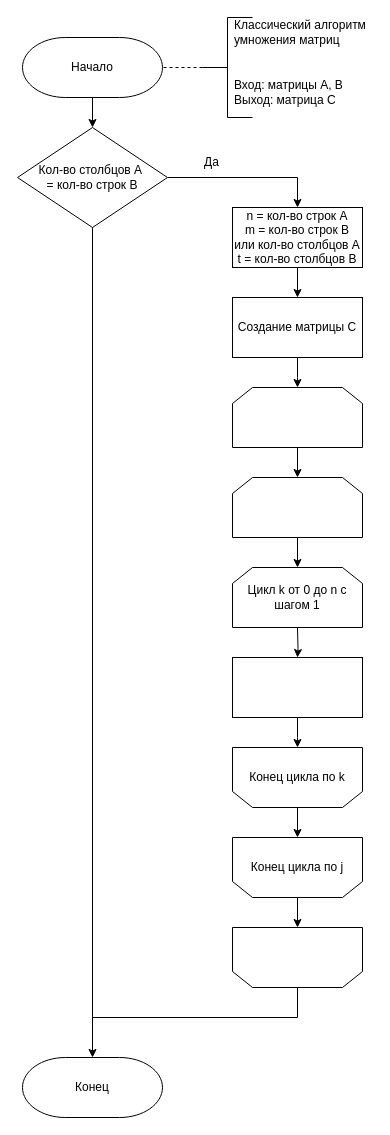
The diagram is 390 pixels wide and 1135 high, and some of its shapes have lost their labels. The shapes that lost their labels are listed below. From the top down, each one's centre as x and y in pixels, then its label:
At pixel 297 417: "Цикл i от 0 до n с шагом 1".
At pixel 297 507: "Цикл j от 0 до n с шагом 1".
At pixel 297 687: "С[i][j] = A[i][k] * B[k][j]".
At pixel 297 957: "Конец цикла по i".
